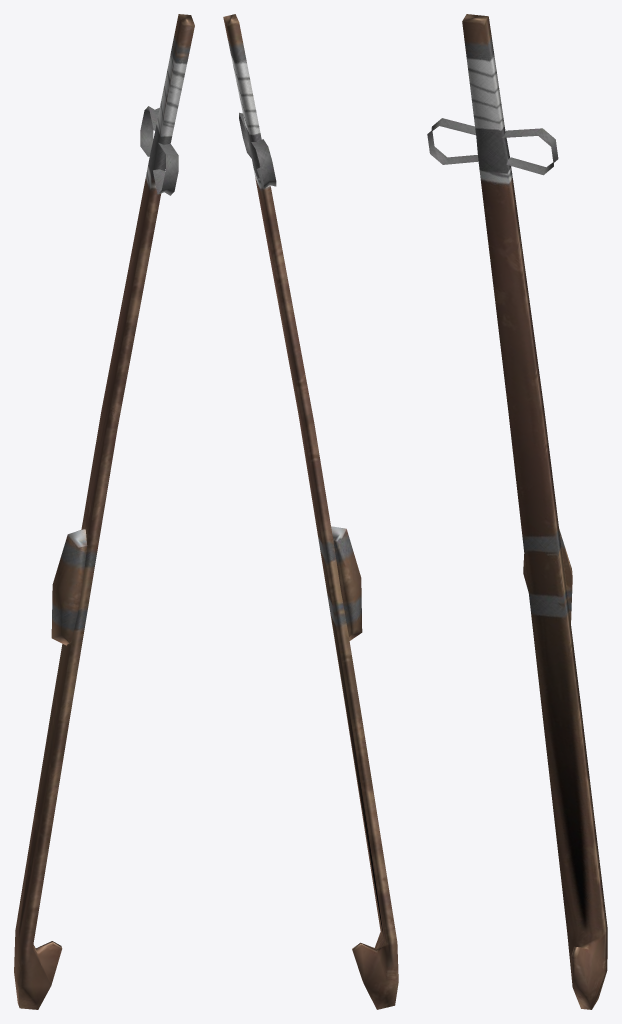
The model's file is weapon-base.glb.
The picture shows the model from 3 angles, left to right: view 1: azimuth 30°, elevation 25°; view 2: azimuth 210°, elevation 25°; view 3: azimuth 270°, elevation 25°; orthographic projection. The views are drawn at different scales.
Bounding box in the file's own units: 0.1243 × 0.9357 × 0.147.
1 material, 1 textured.
